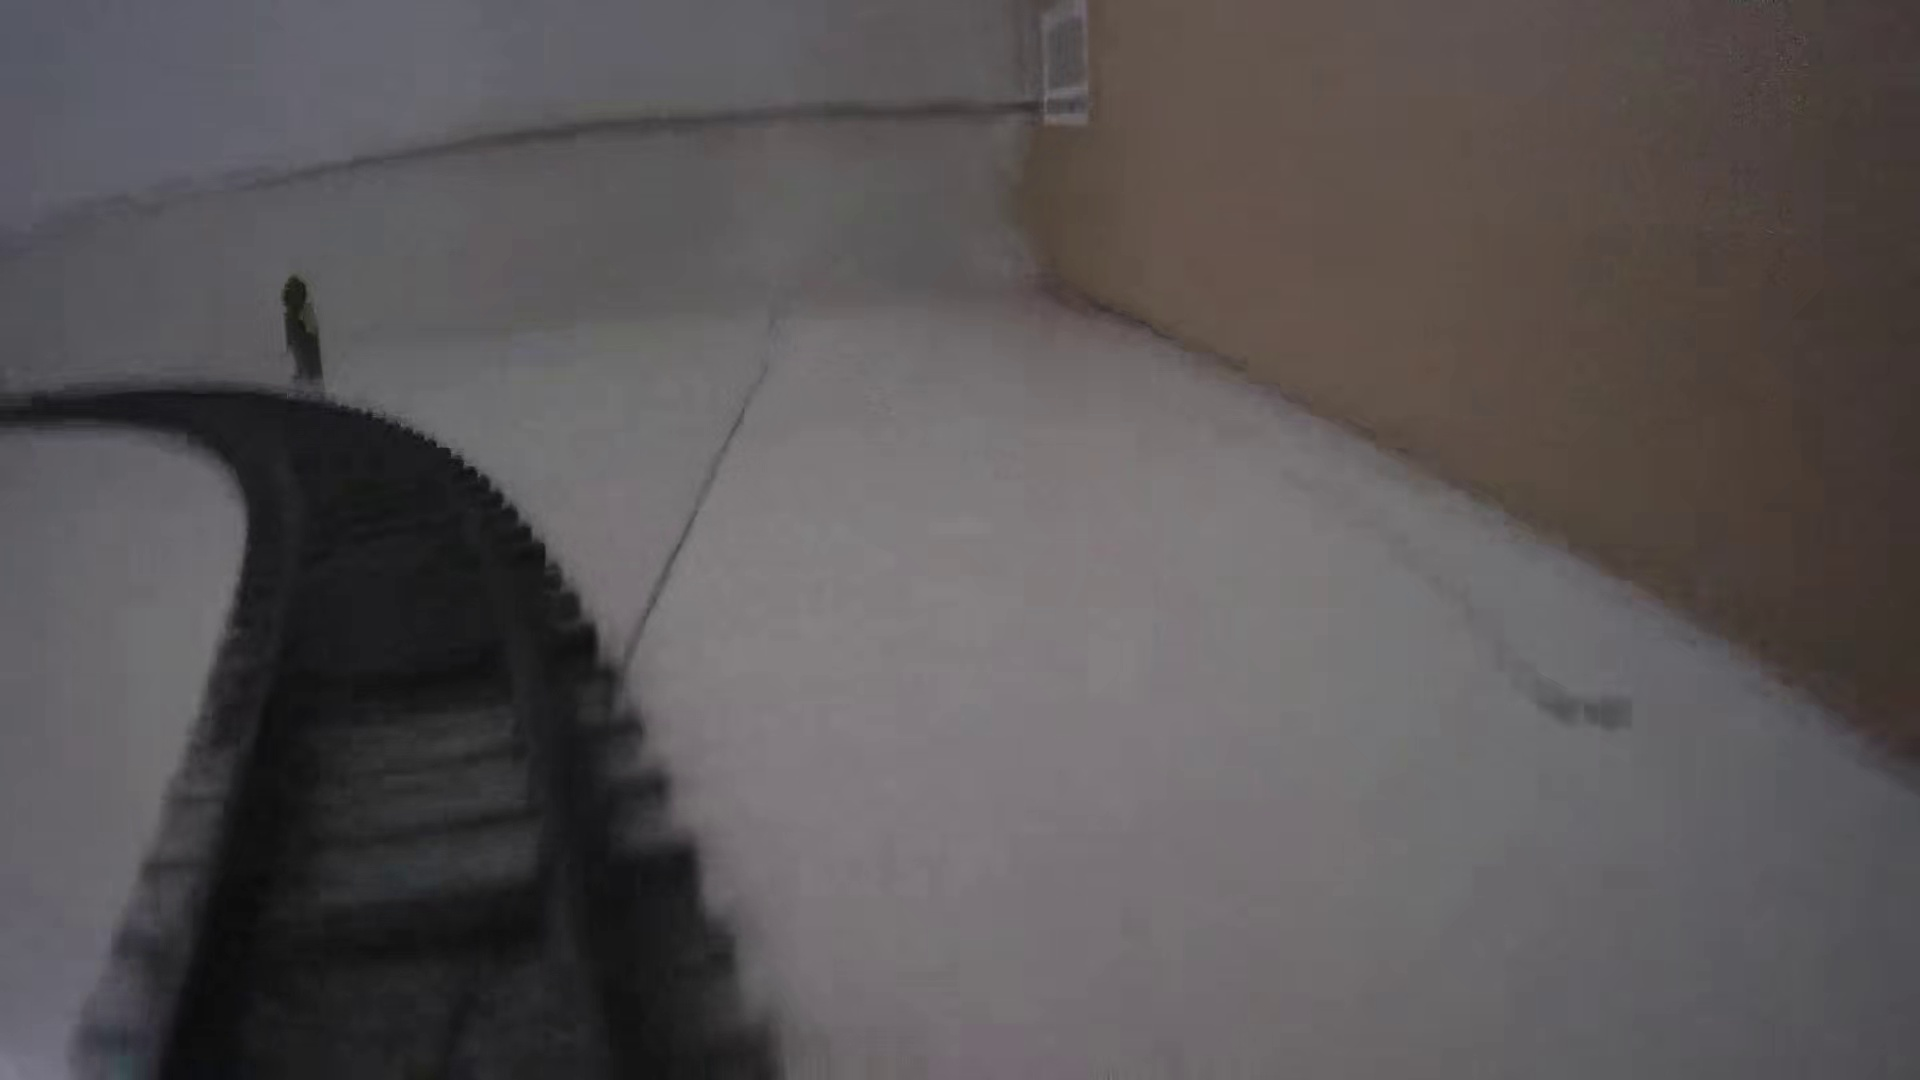people: (277, 272, 331, 383)
